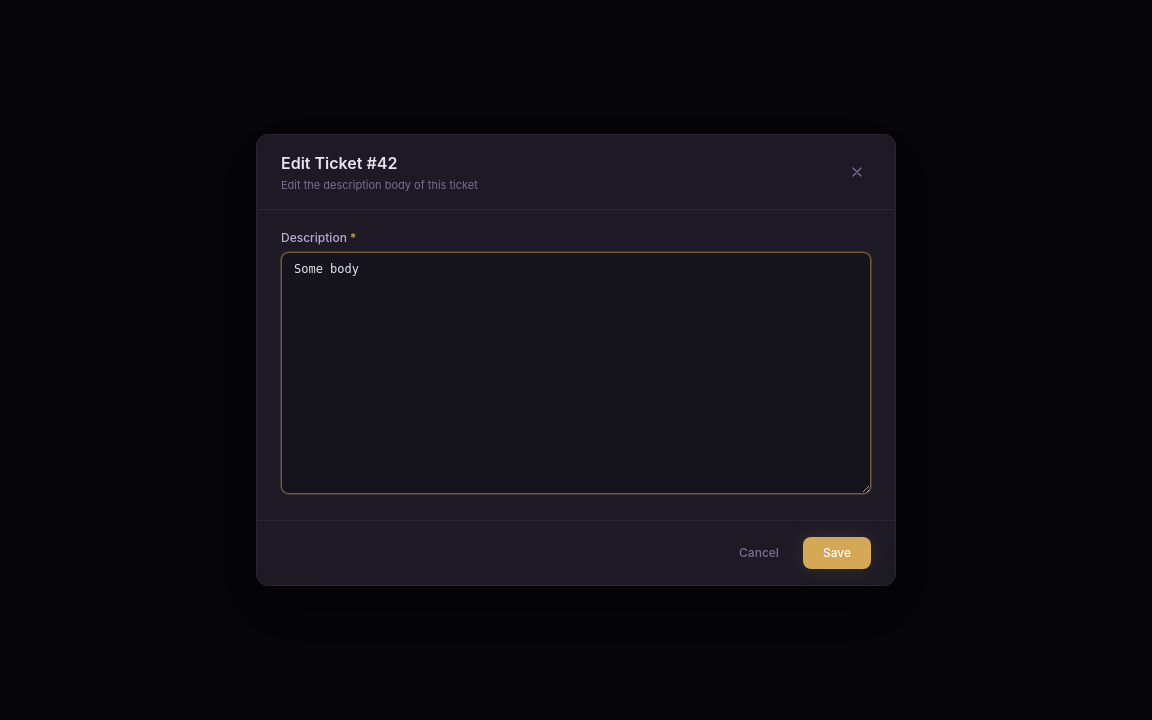
Test: EditTicketDialog › keeps dialog open and shows error when tickets.update rejects
Click the button with test id "edit-ticket-submit".
click(837, 553)  # box [803,537,871,569]
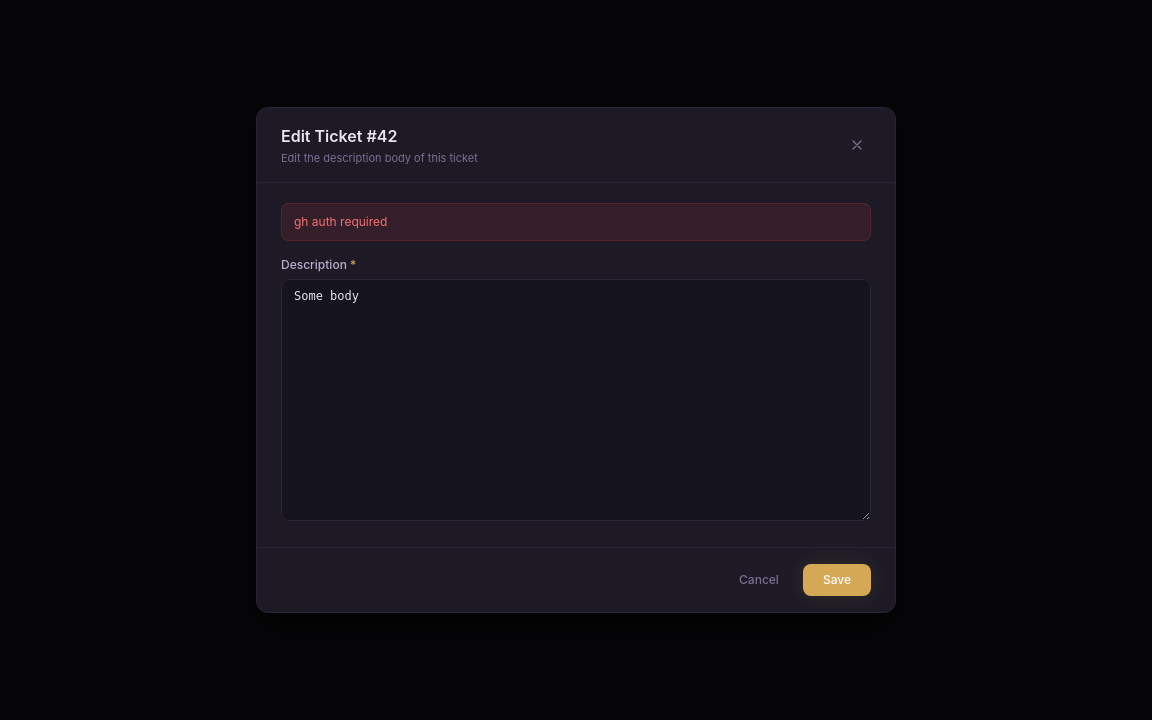
Result: the text with test id "edit-ticket-error" reads "gh auth required" at [294,214,387,229]
